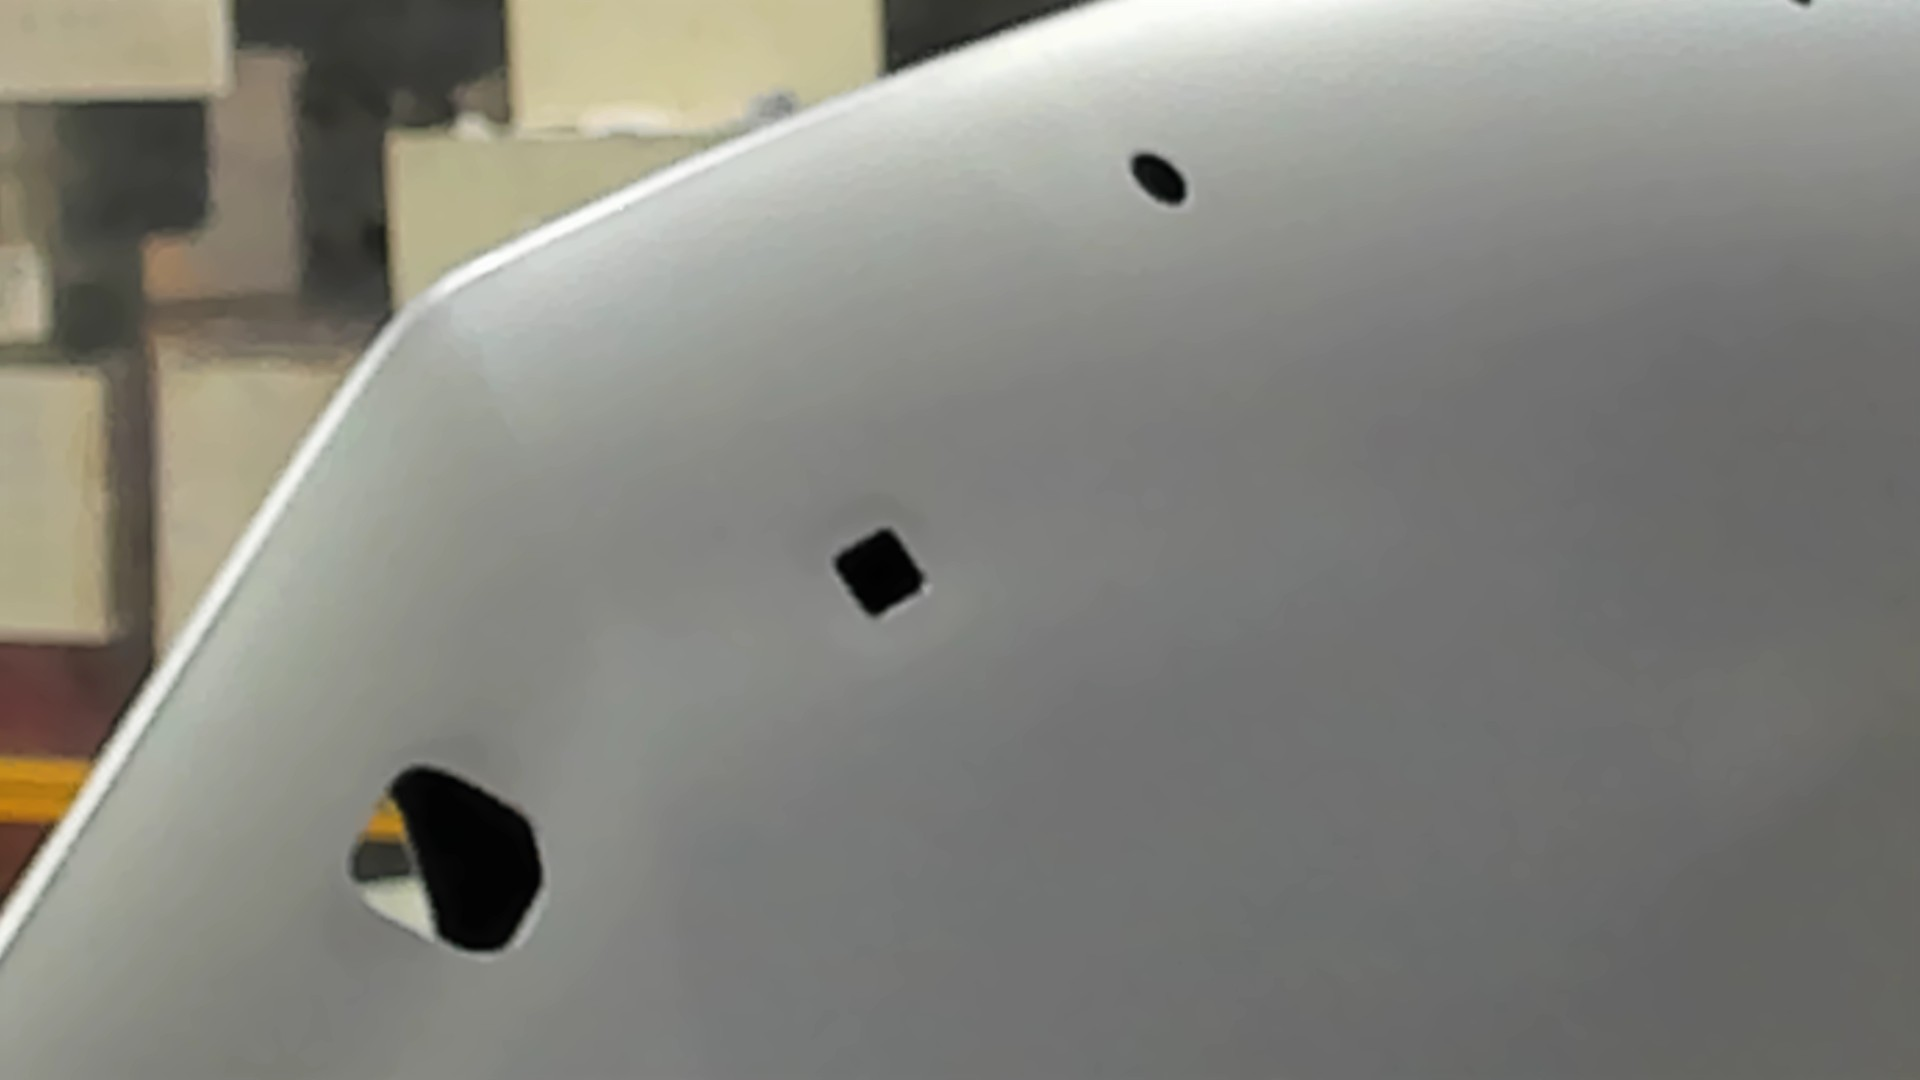chico: (1124, 145, 1191, 208)
grande: (342, 760, 551, 964)
mediano: (829, 524, 930, 622)
